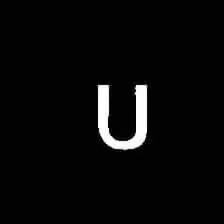LTR_U: (92, 73, 154, 157)
